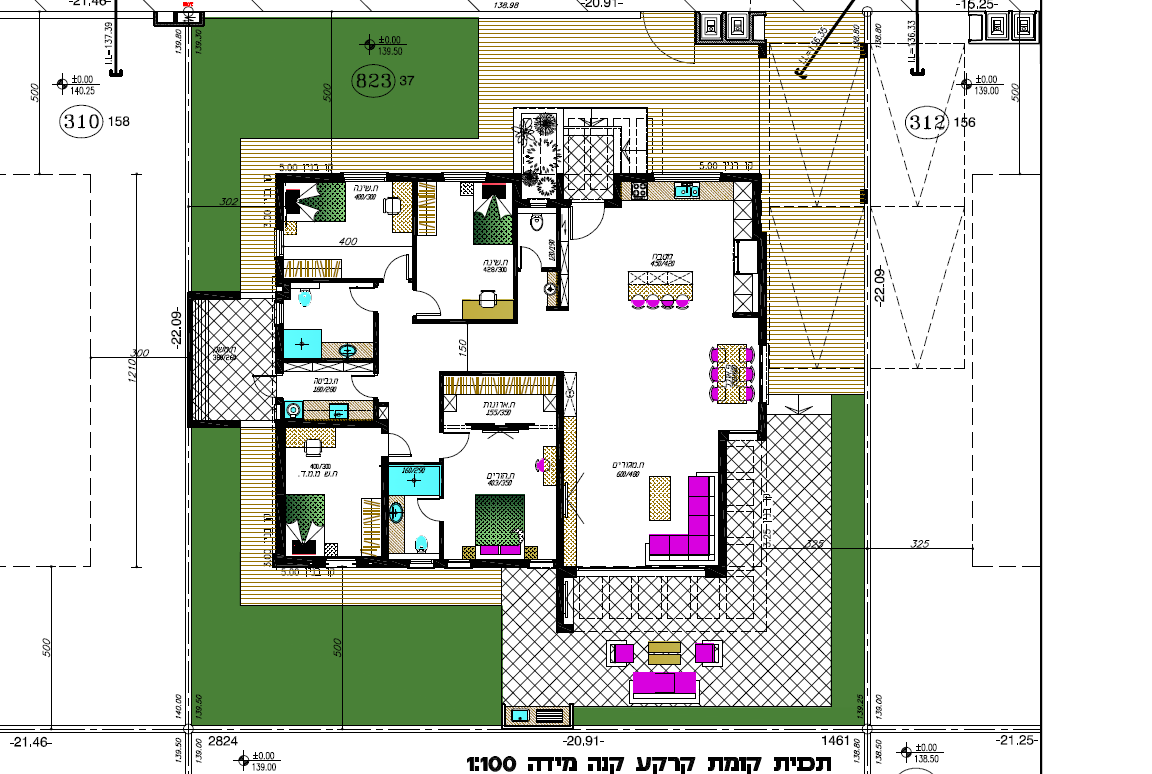door: (570, 210, 607, 251), (394, 428, 418, 460), (420, 288, 445, 318), (447, 430, 472, 458), (345, 284, 368, 314), (383, 251, 410, 275), (414, 495, 435, 525), (519, 245, 540, 268)
wall: (718, 431, 727, 576), (556, 378, 562, 547), (278, 175, 340, 182), (441, 371, 563, 374)
window: (654, 170, 720, 183), (344, 169, 385, 184), (443, 171, 487, 183), (729, 425, 757, 443), (408, 555, 432, 572), (527, 558, 555, 572), (448, 556, 470, 573)
